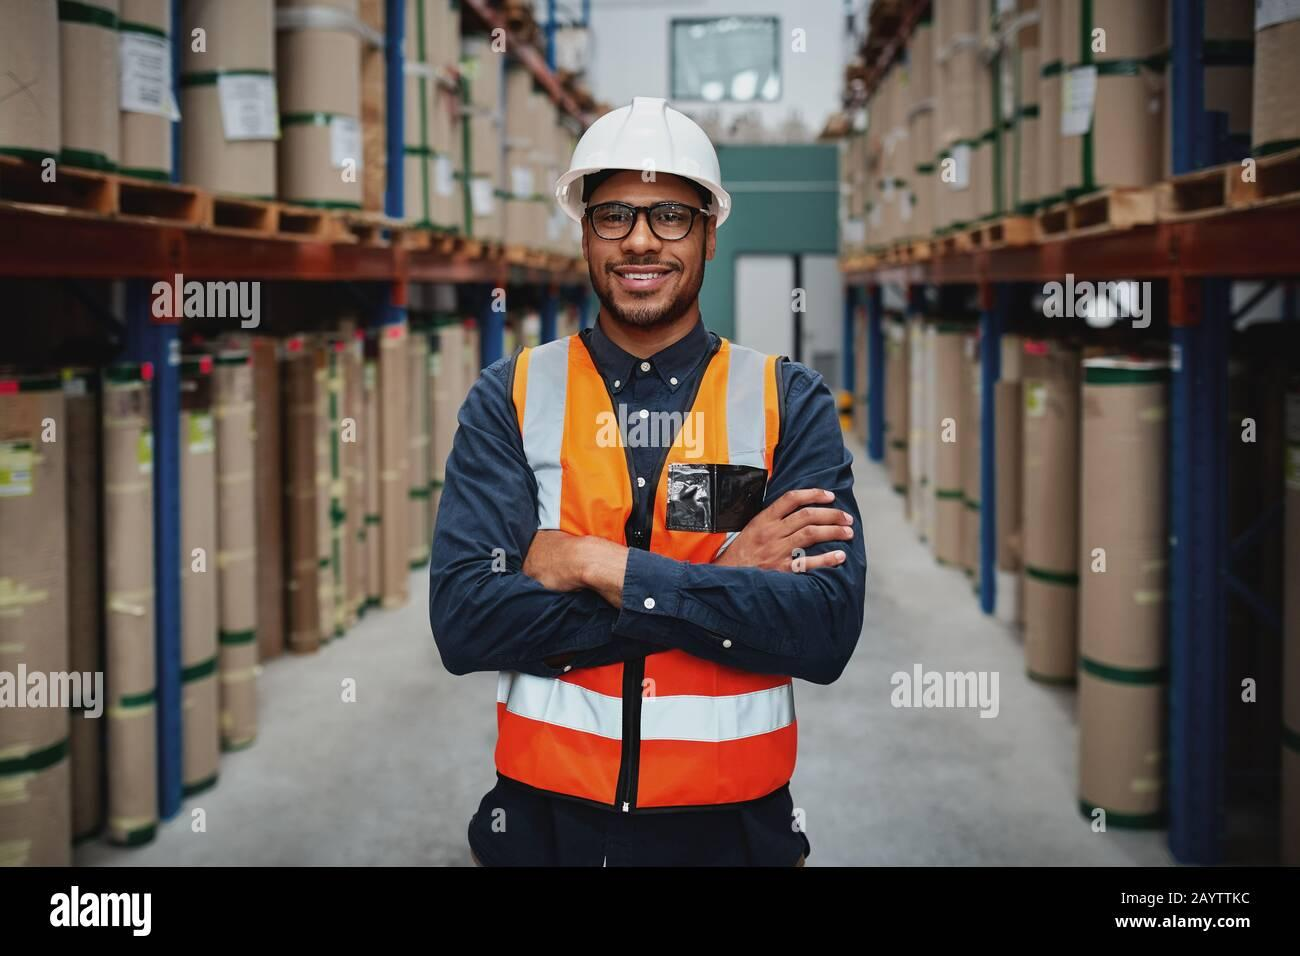hat: (509, 64, 749, 246)
vest: (469, 306, 829, 826)
